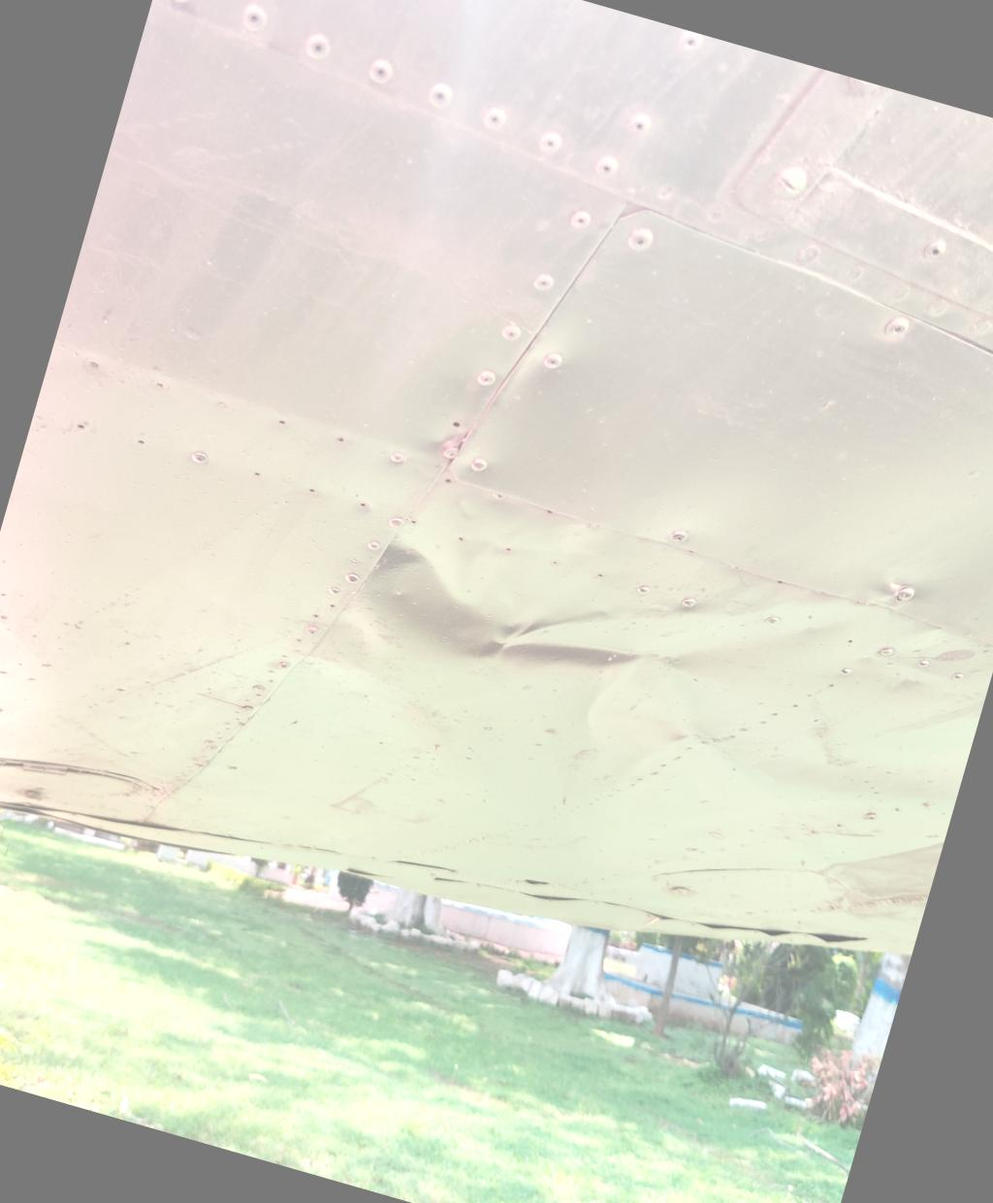dent: (275, 384, 898, 861)
